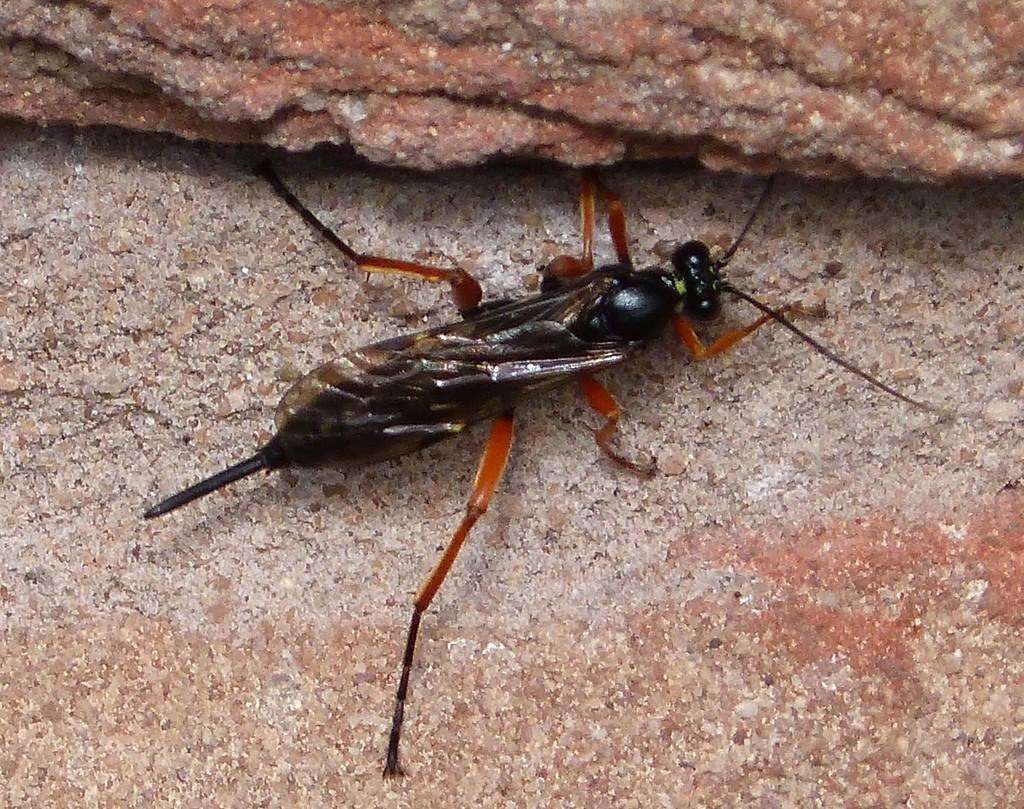insect: (136, 159, 931, 777)
